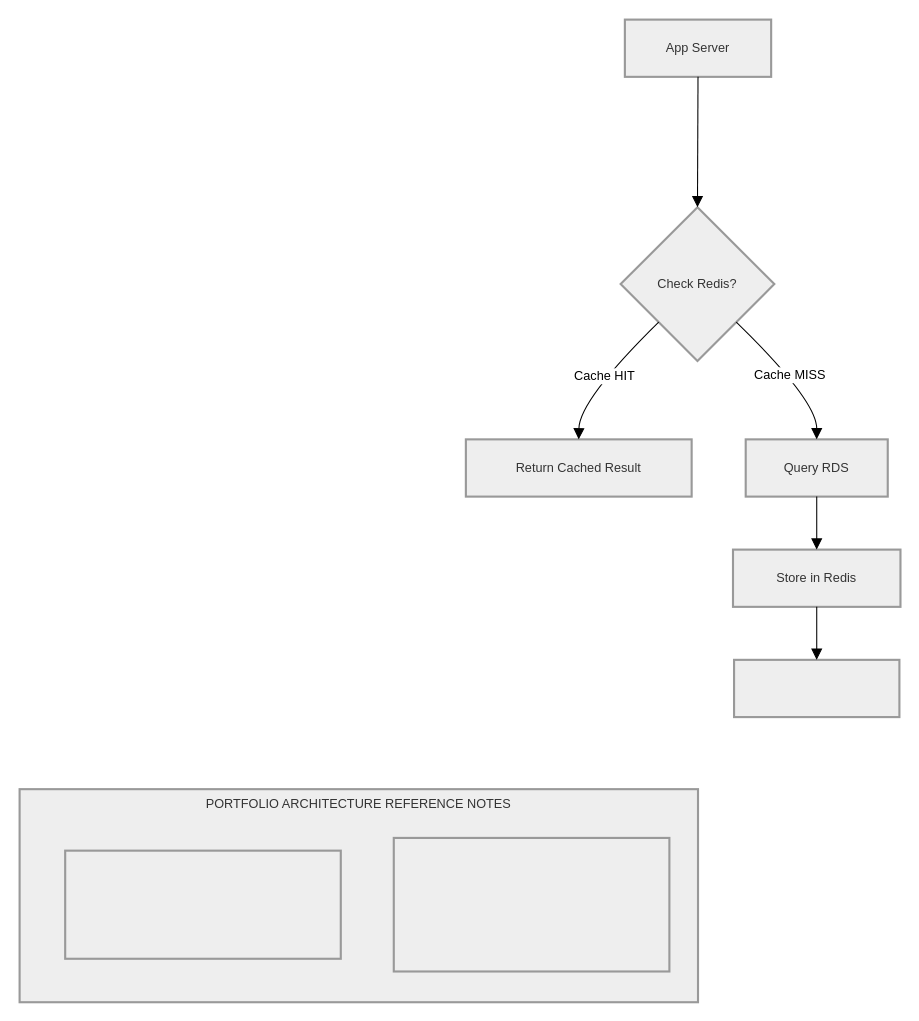
The diagram is 919 pixels wide and 1021 high, and some of its shapes have lost their labels. The centre of each missing label's shape, as x and y in pixels:
"3. Redis vs. DynamoDB for Session Data: Sub-ms latency, automatic TTL expiry." goes at (531,904).
"OTP TTL in Nigerian Banking Applications: Standard 5-10 minutes." goes at (202,904).
"Return Result" goes at (816,688).
